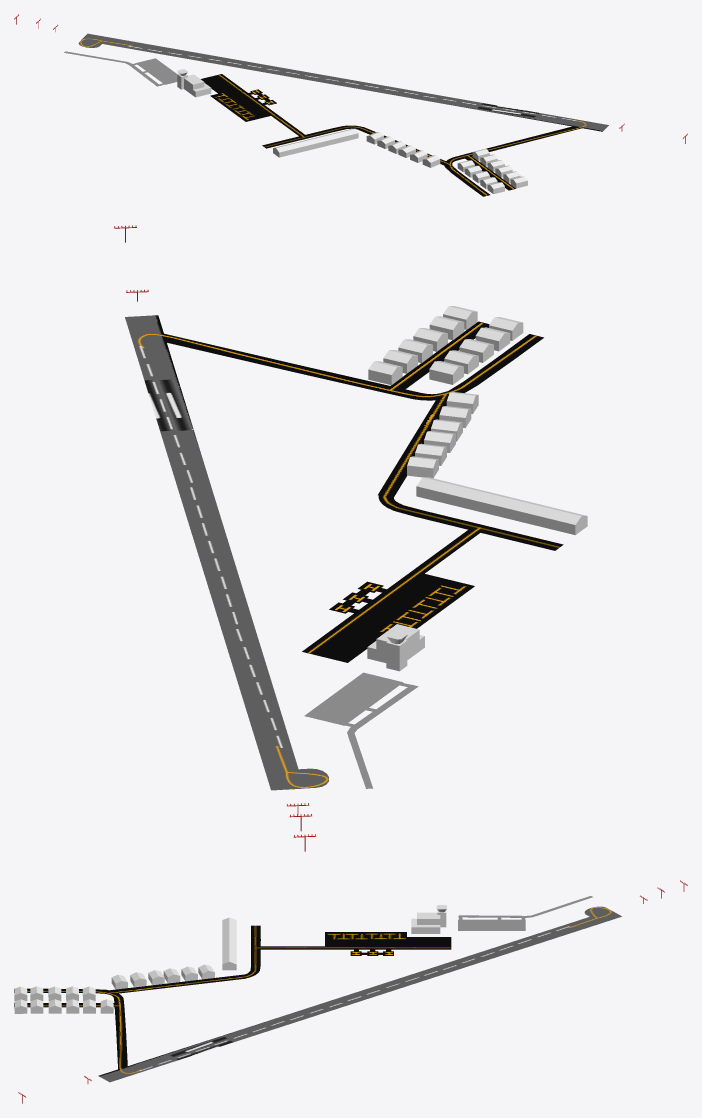
File: iberiabox.glb
3 renders of one model, top to bottom at view 1: azimuth 30°, elevation 25°; view 2: azimuth 150°, elevation 25°; view 3: azimuth 270°, elevation 25°, orthographic. The views are drawn at different scales.
Visible parts, largest first — view 1: Merged Objects 2, Buffer Object 4, Buffer Object 3, Buffer Object 1; view 2: Merged Objects 2, Buffer Object 4, Buffer Object 3, Buffer Object 1; view 3: Merged Objects 2, Buffer Object 3, Buffer Object 4, Buffer Object 1.
Part boxes in pixels (left/top/right/bottom): Merged Objects 2: left=78, top=33, right=608, bottom=196; Buffer Object 4: left=273, top=128, right=358, bottom=157; Buffer Object 3: left=64, top=51, right=177, bottom=86; Buffer Object 1: left=184, top=74, right=211, bottom=97; Merged Objects 2: left=125, top=315, right=563, bottom=790; Buffer Object 4: left=416, top=477, right=587, bottom=535; Buffer Object 3: left=304, top=672, right=418, bottom=788; Buffer Object 1: left=367, top=624, right=424, bottom=662; Merged Objects 2: left=14, top=906, right=621, bottom=1082; Buffer Object 3: left=458, top=896, right=592, bottom=930; Buffer Object 4: left=222, top=917, right=236, bottom=970; Buffer Object 1: left=411, top=912, right=440, bottom=933.
Size of the model in its own units: 606 by 23.97 by 799.
Materials: 25 (1 with a texture image).
